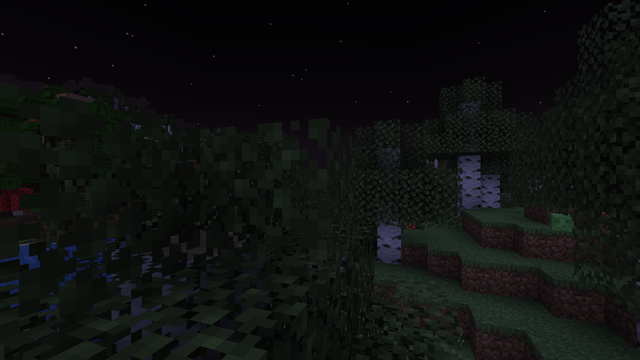slimes: (547, 212, 571, 231)
